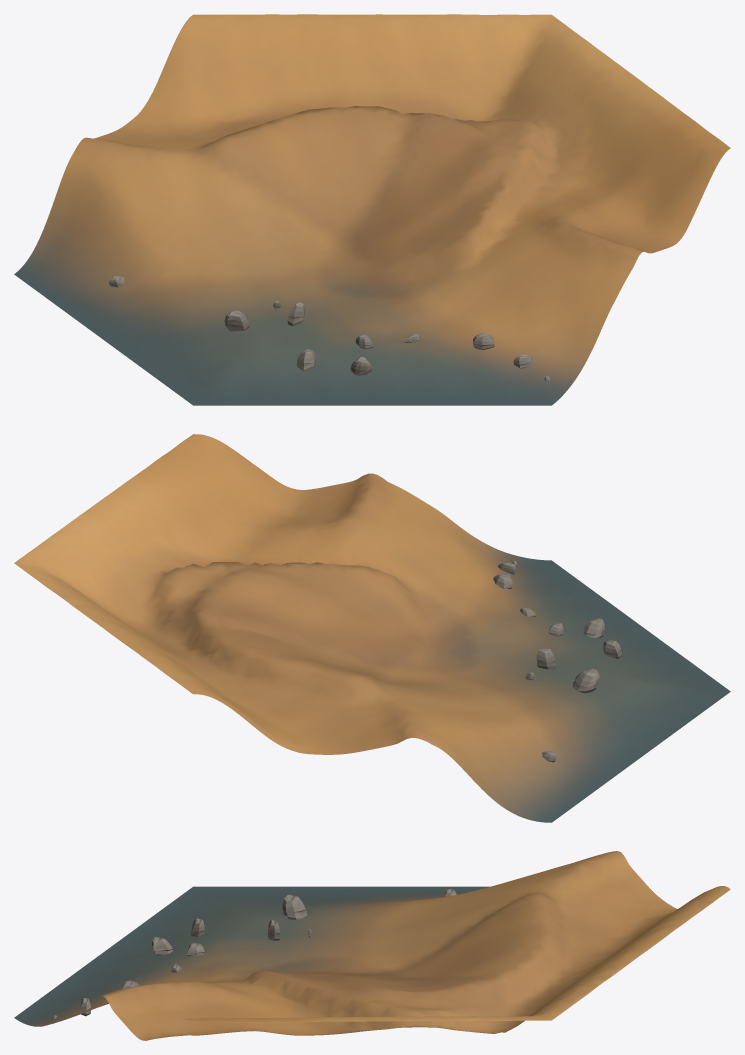
Rendered from costa_-04_+09.glb.
3 views of the same model, one above another, from view 1: azimuth 30°, elevation 25°; view 2: azimuth 150°, elevation 25°; view 3: azimuth 270°, elevation 25° (orthographic).
Visible parts, largest first — view 1: terrain, Formações costeiras; view 2: terrain, Formações costeiras; view 3: terrain, Formações costeiras.
Part boxes in pixels (box(x1,y1,x2,y2)): terrain: box(14, 14, 730, 405); Formações costeiras: box(108, 275, 550, 381); terrain: box(14, 434, 730, 822); Formações costeiras: box(493, 561, 621, 762); terrain: box(14, 851, 730, 1040); Formações costeiras: box(52, 889, 456, 1019).
Bounding box in the file's own units: 4330 × 991 × 5000.
Materials: 1 (1 with a texture image).
